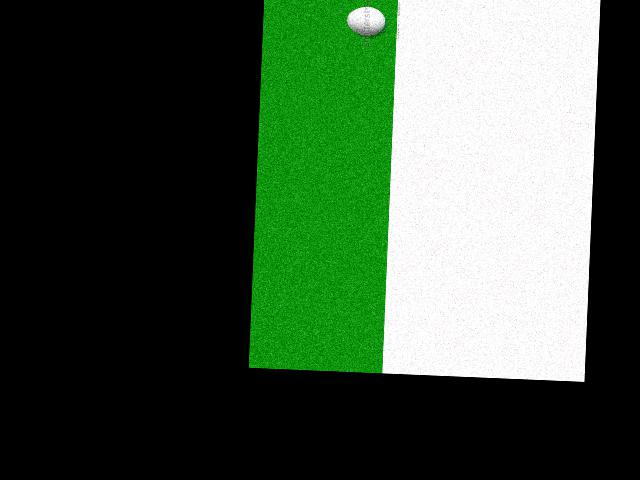egg: (346, 5, 385, 36)
